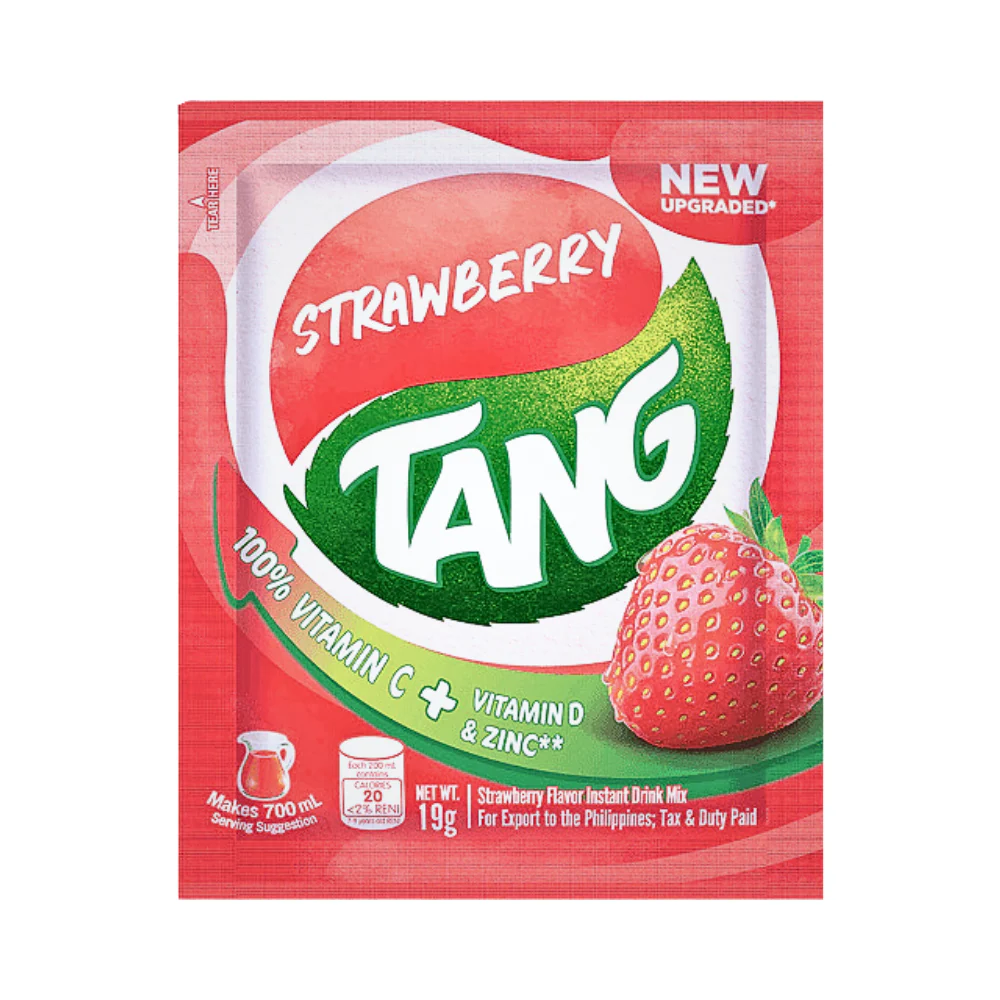non-toxic_waste: (177, 96, 825, 893)
